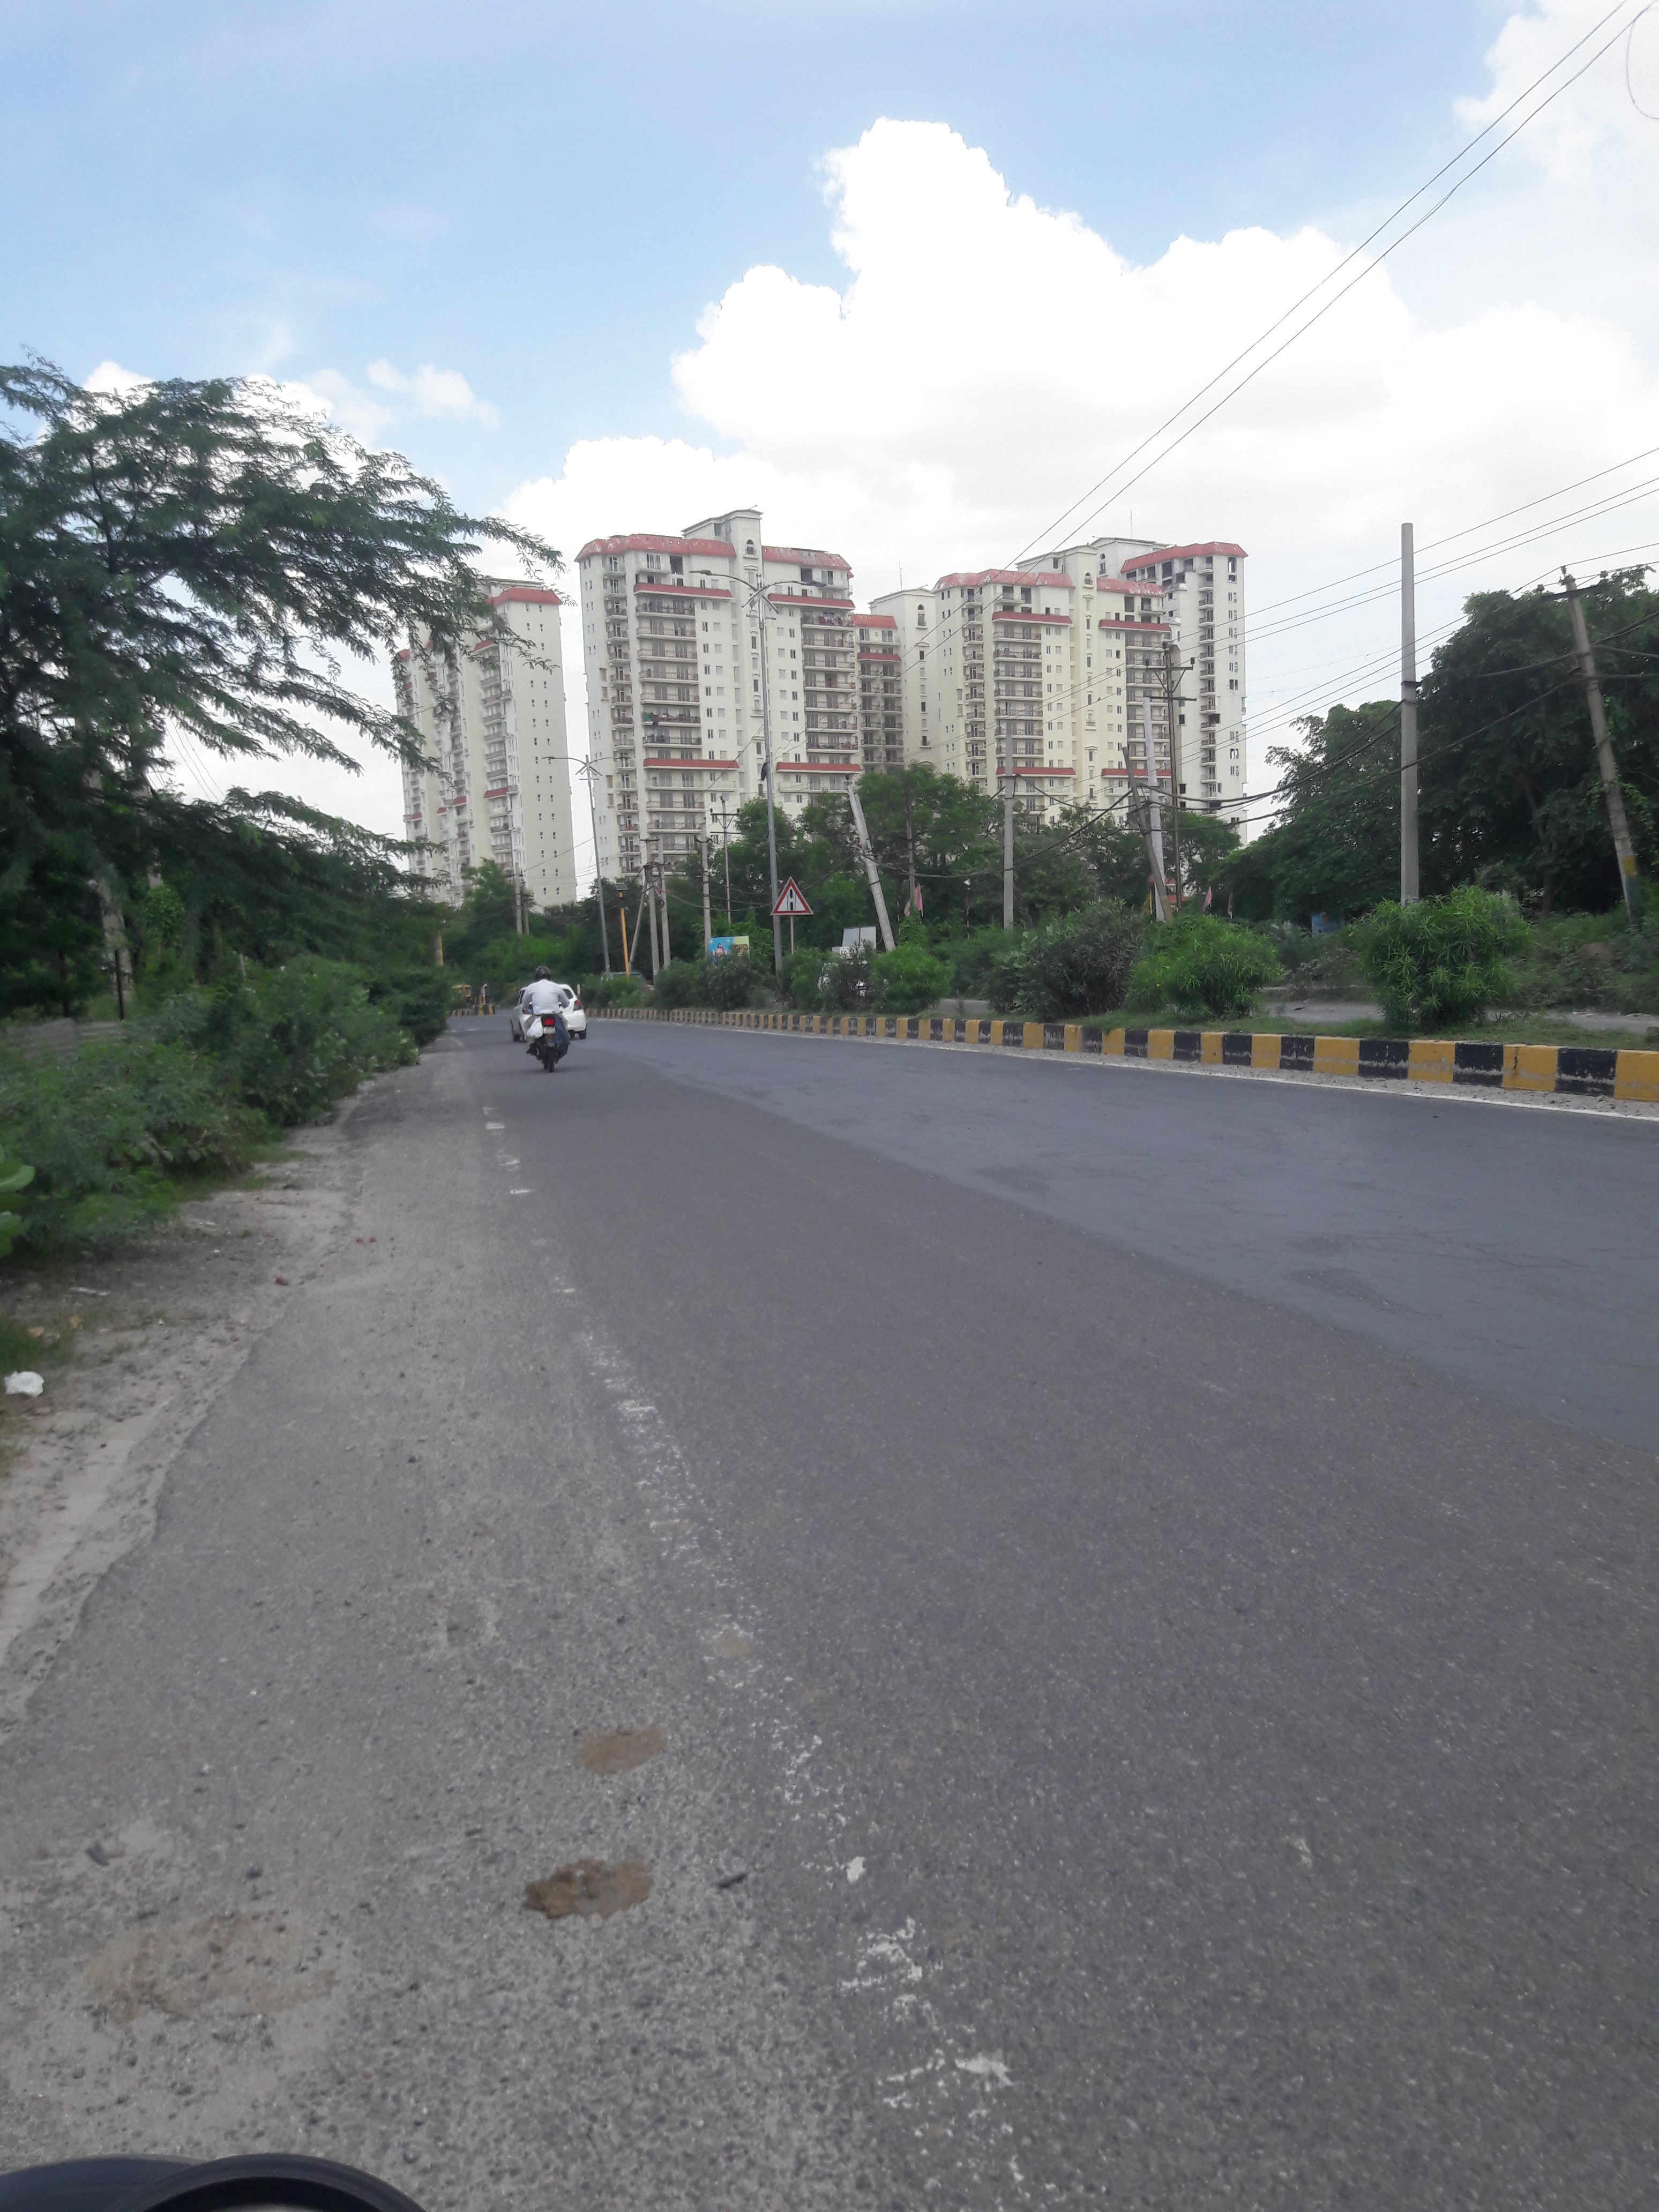traffic_sign: (770, 874, 814, 914), (619, 897, 627, 907)
